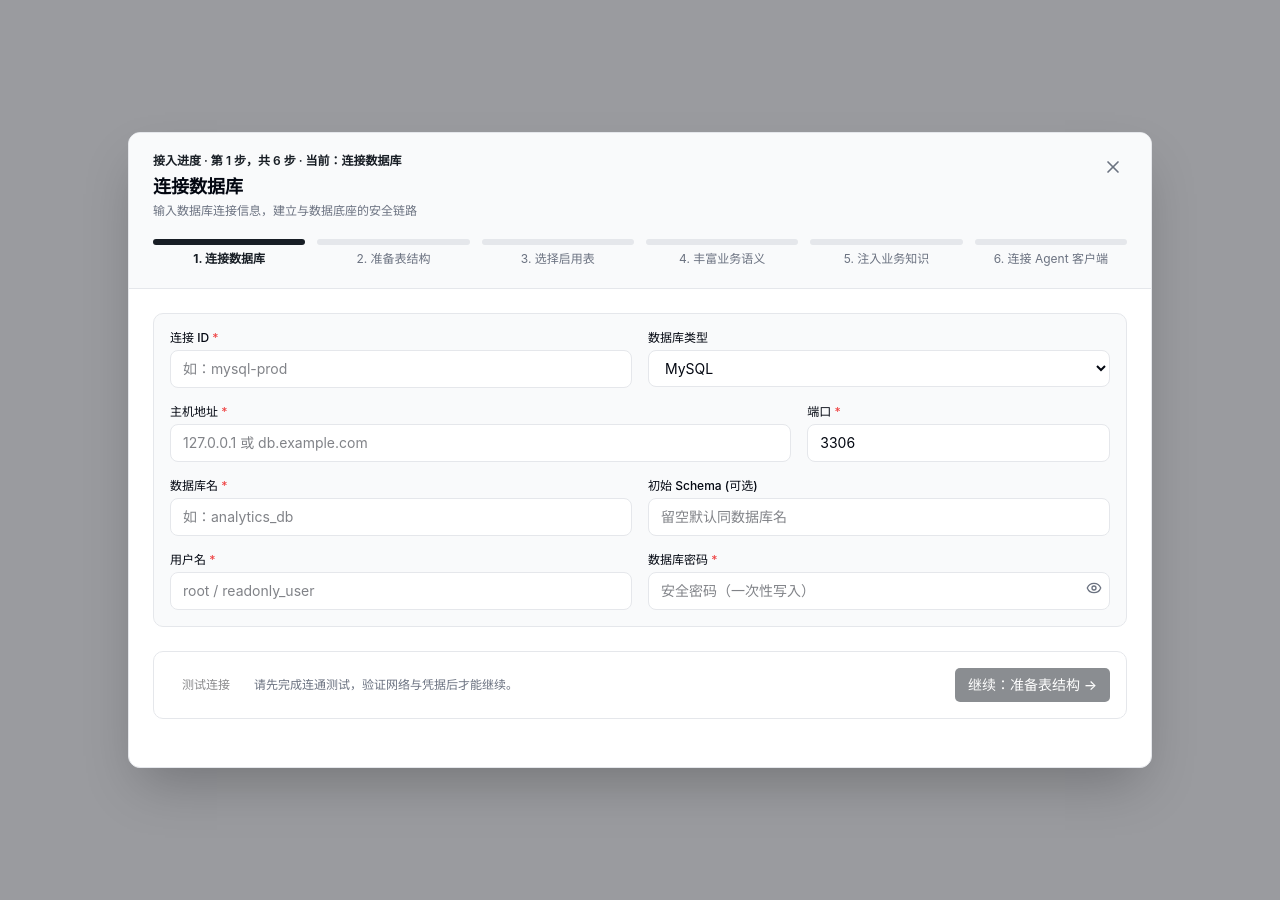
SetupAssistantModal Component › renders Step 1 and advances through probe and creation
Expected: the element with test id "setup-step-1" is shown, [153,313,1127,719]
# Fill form
Step 1. Type "test-conn" into the field with test id "setup-conn-id" → (401,369), box [170,350,632,388]
Step 2. Type "127.0.0.1" into the field with test id "setup-host" → (481,443), box [170,424,791,462]
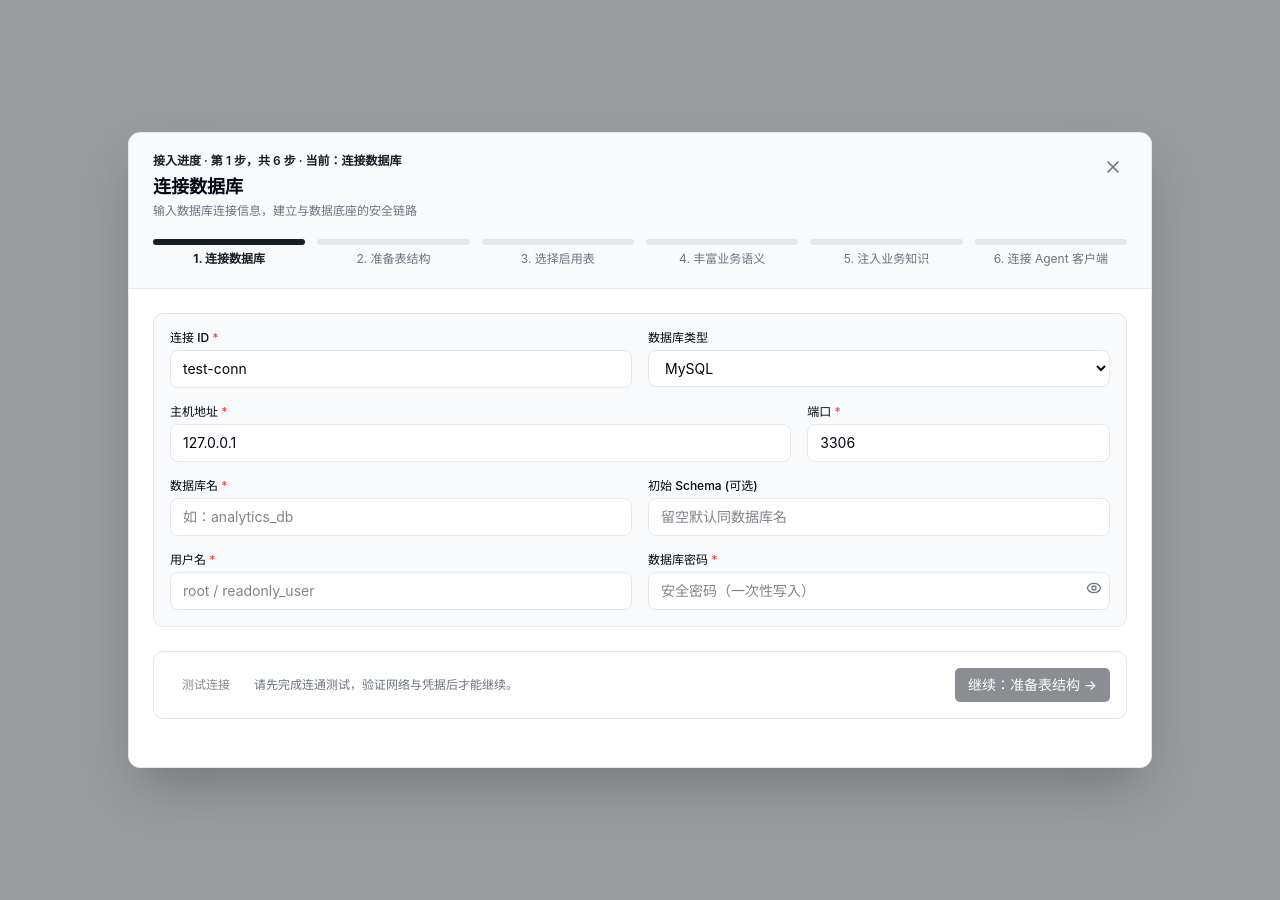
Step 3. Type "test_db" into the field with test id "setup-database" → (401,517), box [170,498,632,536]
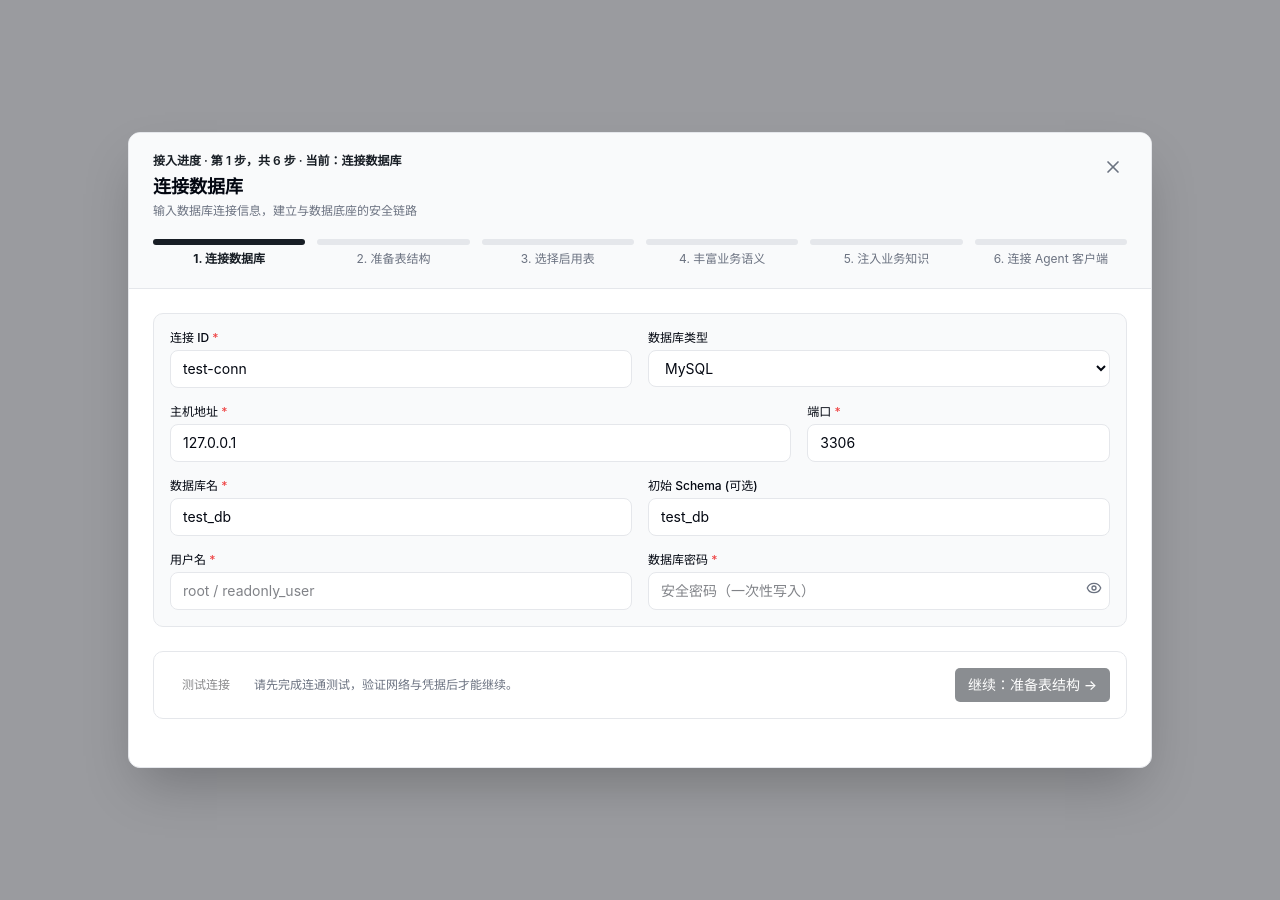
Step 4. Type "root" into the field with test id "setup-username" → (401,591), box [170,572,632,610]
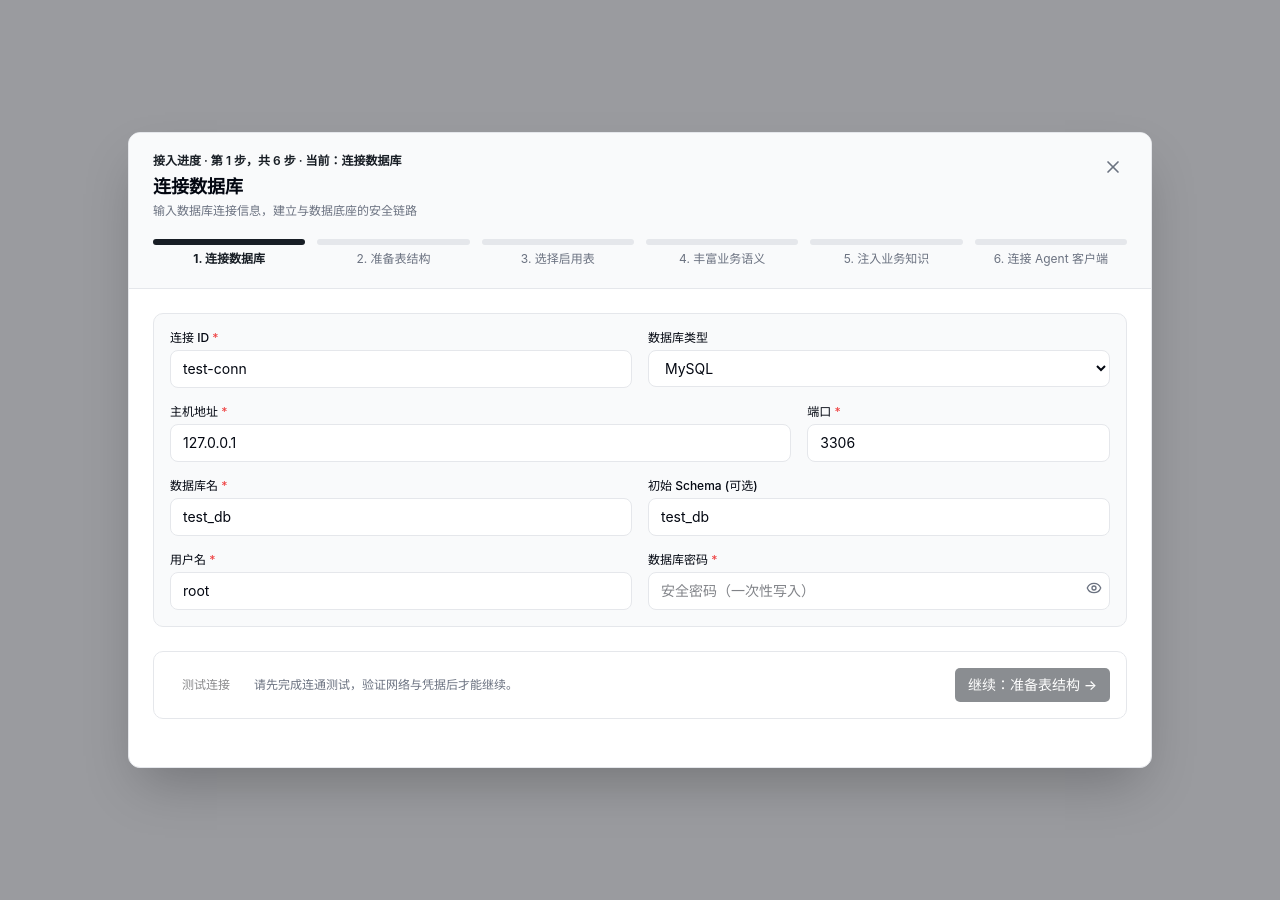
Step 5. Type "secret123" into the password field with test id "setup-password" → (879,591), box [648,572,1110,610]
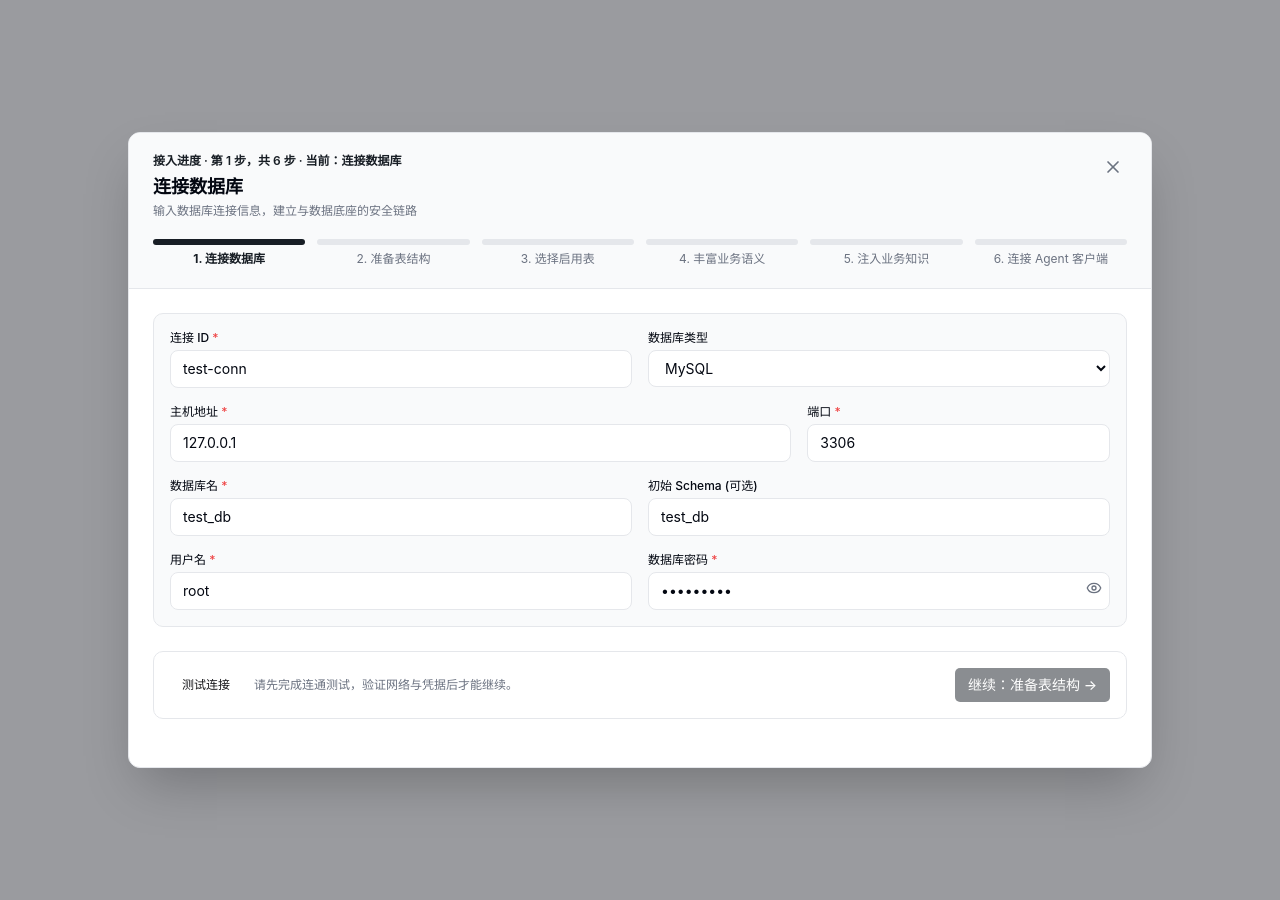
# Test probe
Step 6. Click the button with test id "setup-probe-btn" → (206,685), box [170,671,242,699]
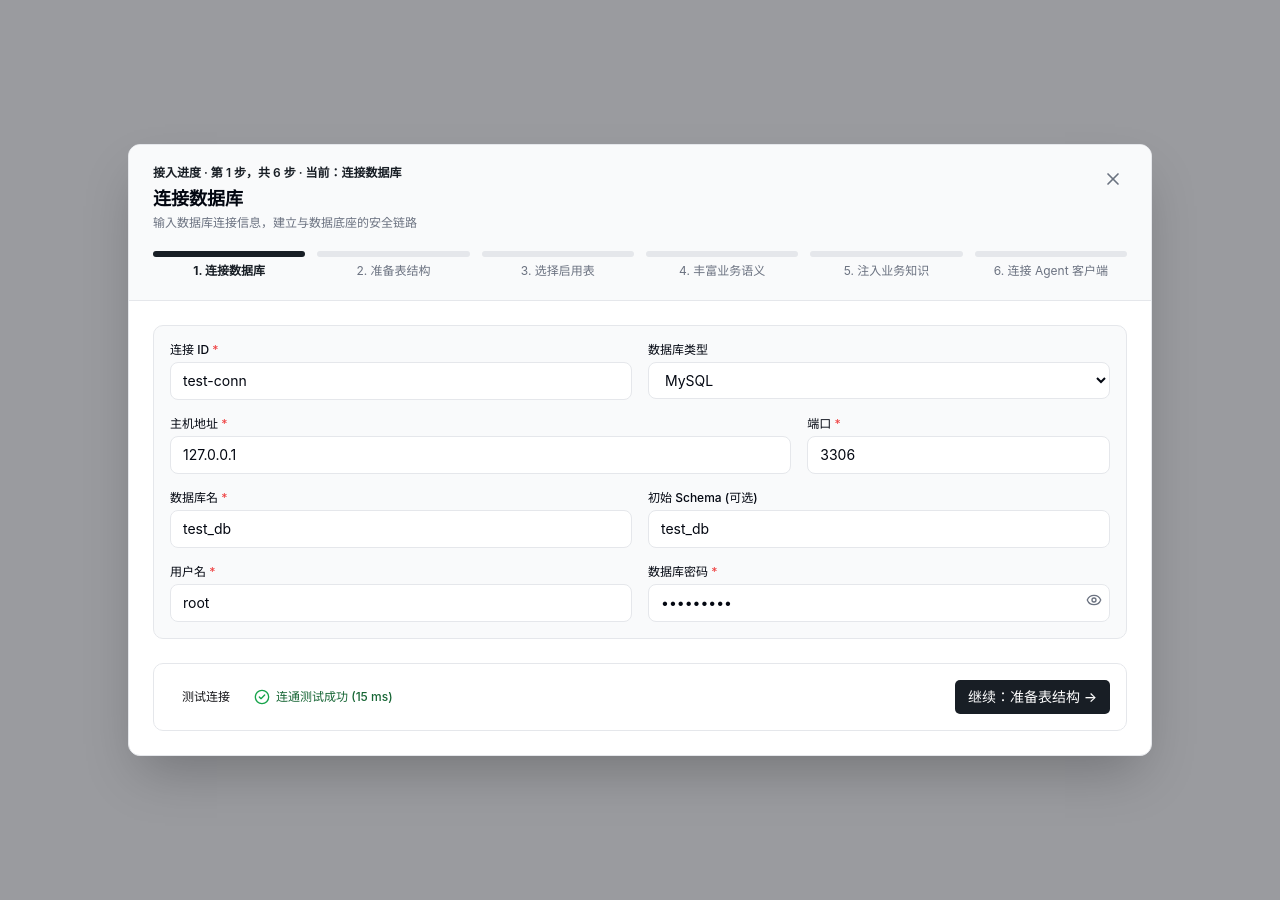
Result: the text "连通测试成功 (15 ms)" is shown at [254,689,393,705]
Result: the button with test id "setup-step1-next" is enabled
Step 7. Click the button with test id "setup-step1-next" → (1032,697), box [955,680,1110,714]
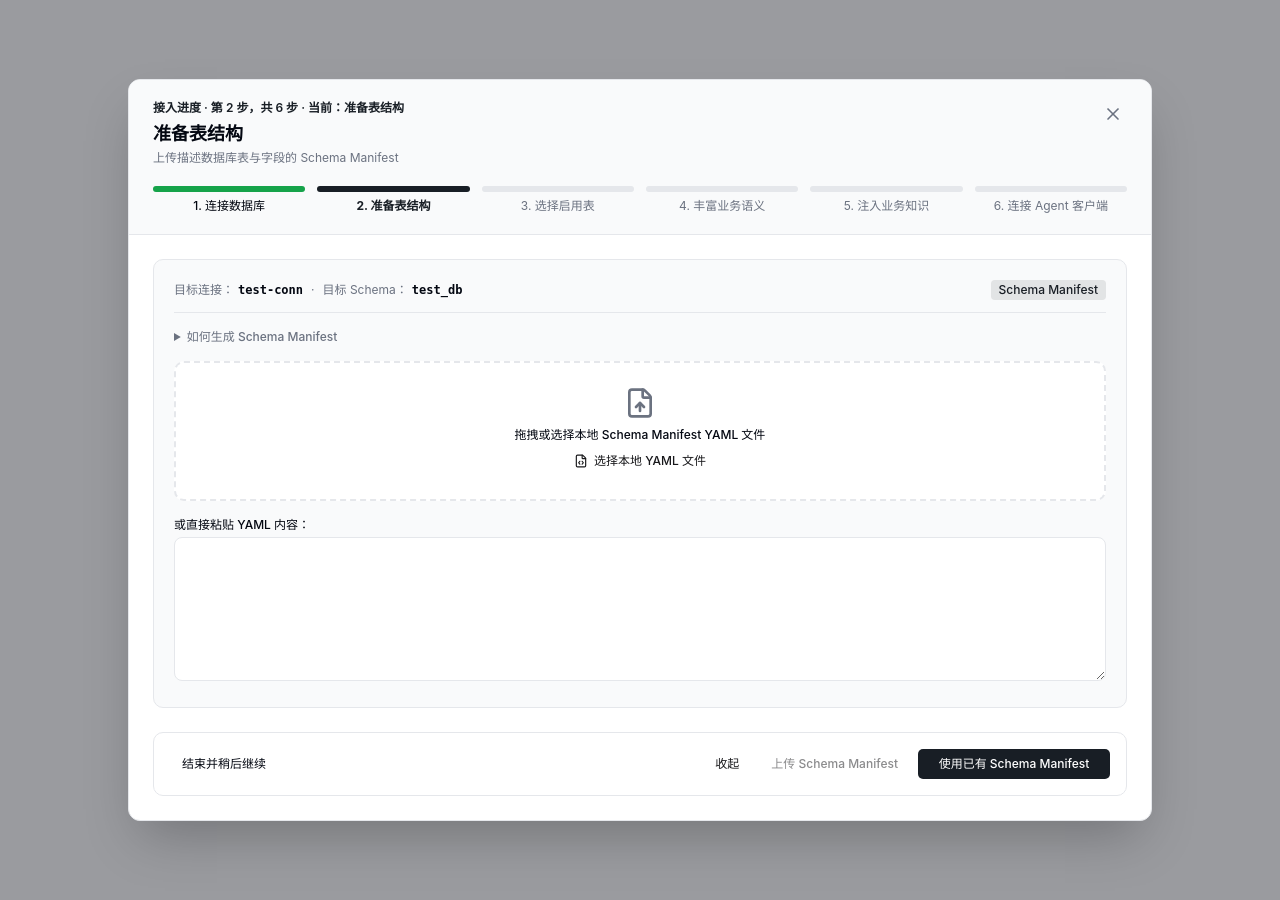
Result: the element with test id "setup-step-2" is shown at [153,259,1127,796]
